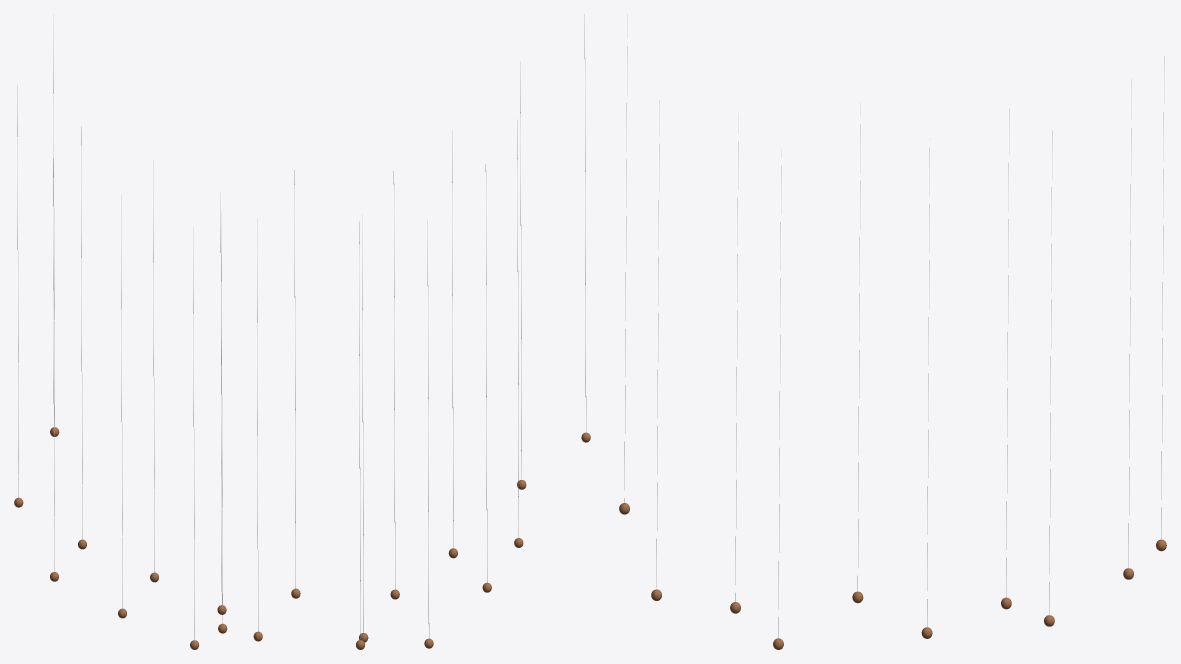
The model's file is lights.obj.
The picture shows the model from 3 angles, left to right: view 1: azimuth 30°, elevation 25°; view 2: azimuth 150°, elevation 25°; view 3: azimuth 270°, elevation 25°; orthographic projection. The views are drawn at different scales.
Parts seen in each view (by area): view 1: カスタム少女_mesh_カスタム少女; view 2: カスタム少女_mesh_カスタム少女; view 3: カスタム少女_mesh_カスタム少女.
Boxes of the visible parts, bbox=[...] form: カスタム少女_mesh_カスタム少女: bbox=[14, 14, 262, 649]; カスタム少女_mesh_カスタム少女: bbox=[291, 14, 590, 649]; カスタム少女_mesh_カスタム少女: bbox=[619, 14, 1166, 649].
Bounding box in the file's own units: 14.75 × 88.84 × 73.68.
